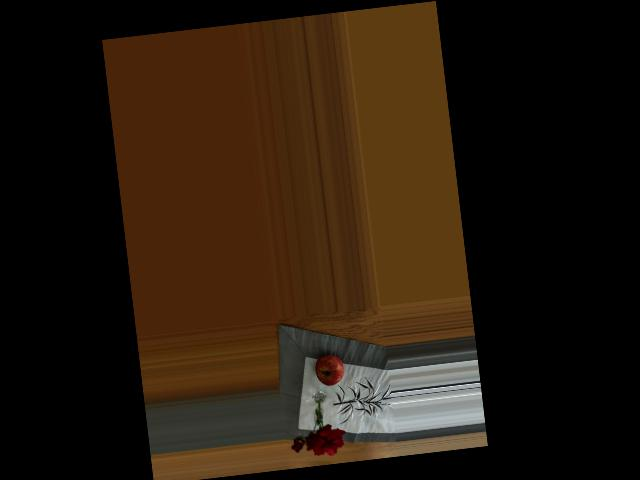apple: (309, 349, 346, 389)
